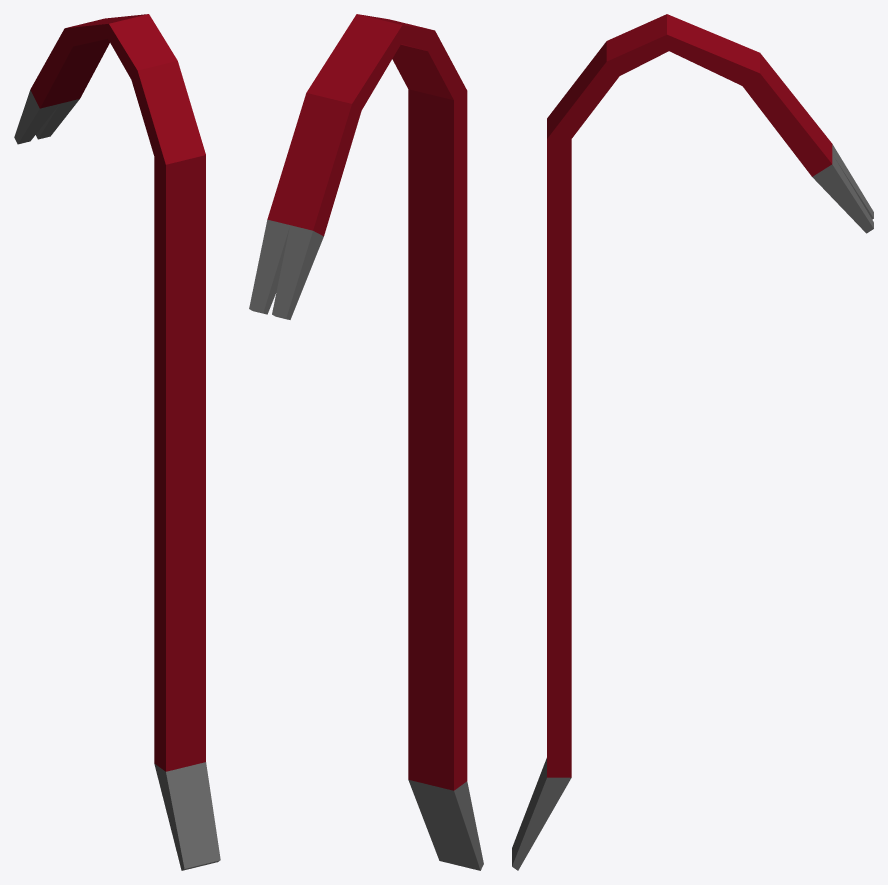
Rendered from Crowbar.fbx.
3 renders of one model, left to right at view 1: azimuth 30°, elevation 25°; view 2: azimuth 150°, elevation 25°; view 3: azimuth 270°, elevation 25°, orthographic. The views are drawn at different scales.
Visible parts, largest first — view 1: Crowbar; view 2: Crowbar; view 3: Crowbar.
Boxes of the visible parts, box(x1,y1,x2,y2) form: Crowbar: box(14, 14, 220, 870); Crowbar: box(249, 14, 483, 870); Crowbar: box(512, 14, 873, 870).
Bounding box in the file's own units: 2.11 × 40 × 15.67.
